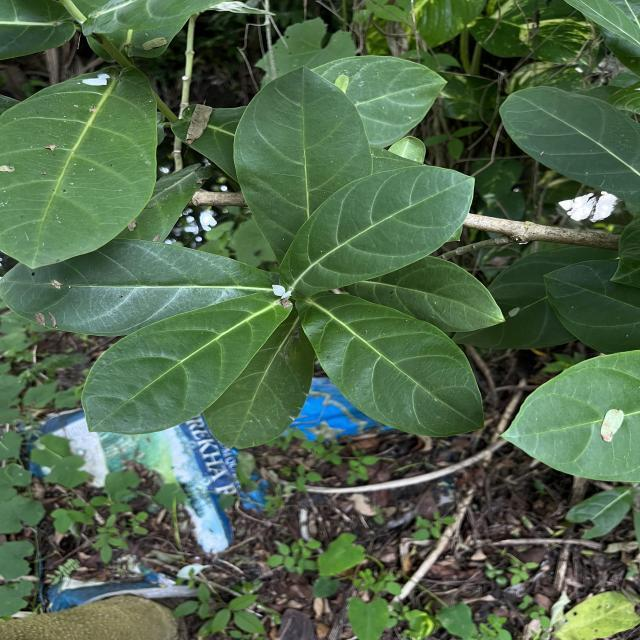Calotropis gigantea: (1, 62, 160, 271), (80, 288, 294, 436), (294, 290, 486, 440), (232, 63, 374, 264), (2, 235, 274, 338), (276, 164, 476, 298), (496, 84, 640, 212)
